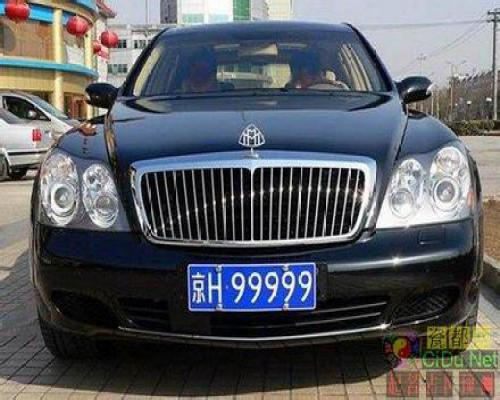Carplate: (177, 260, 326, 320)
